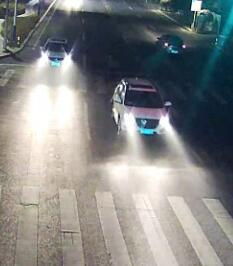car: (111, 75, 173, 139), (38, 34, 73, 71), (154, 30, 187, 56)
